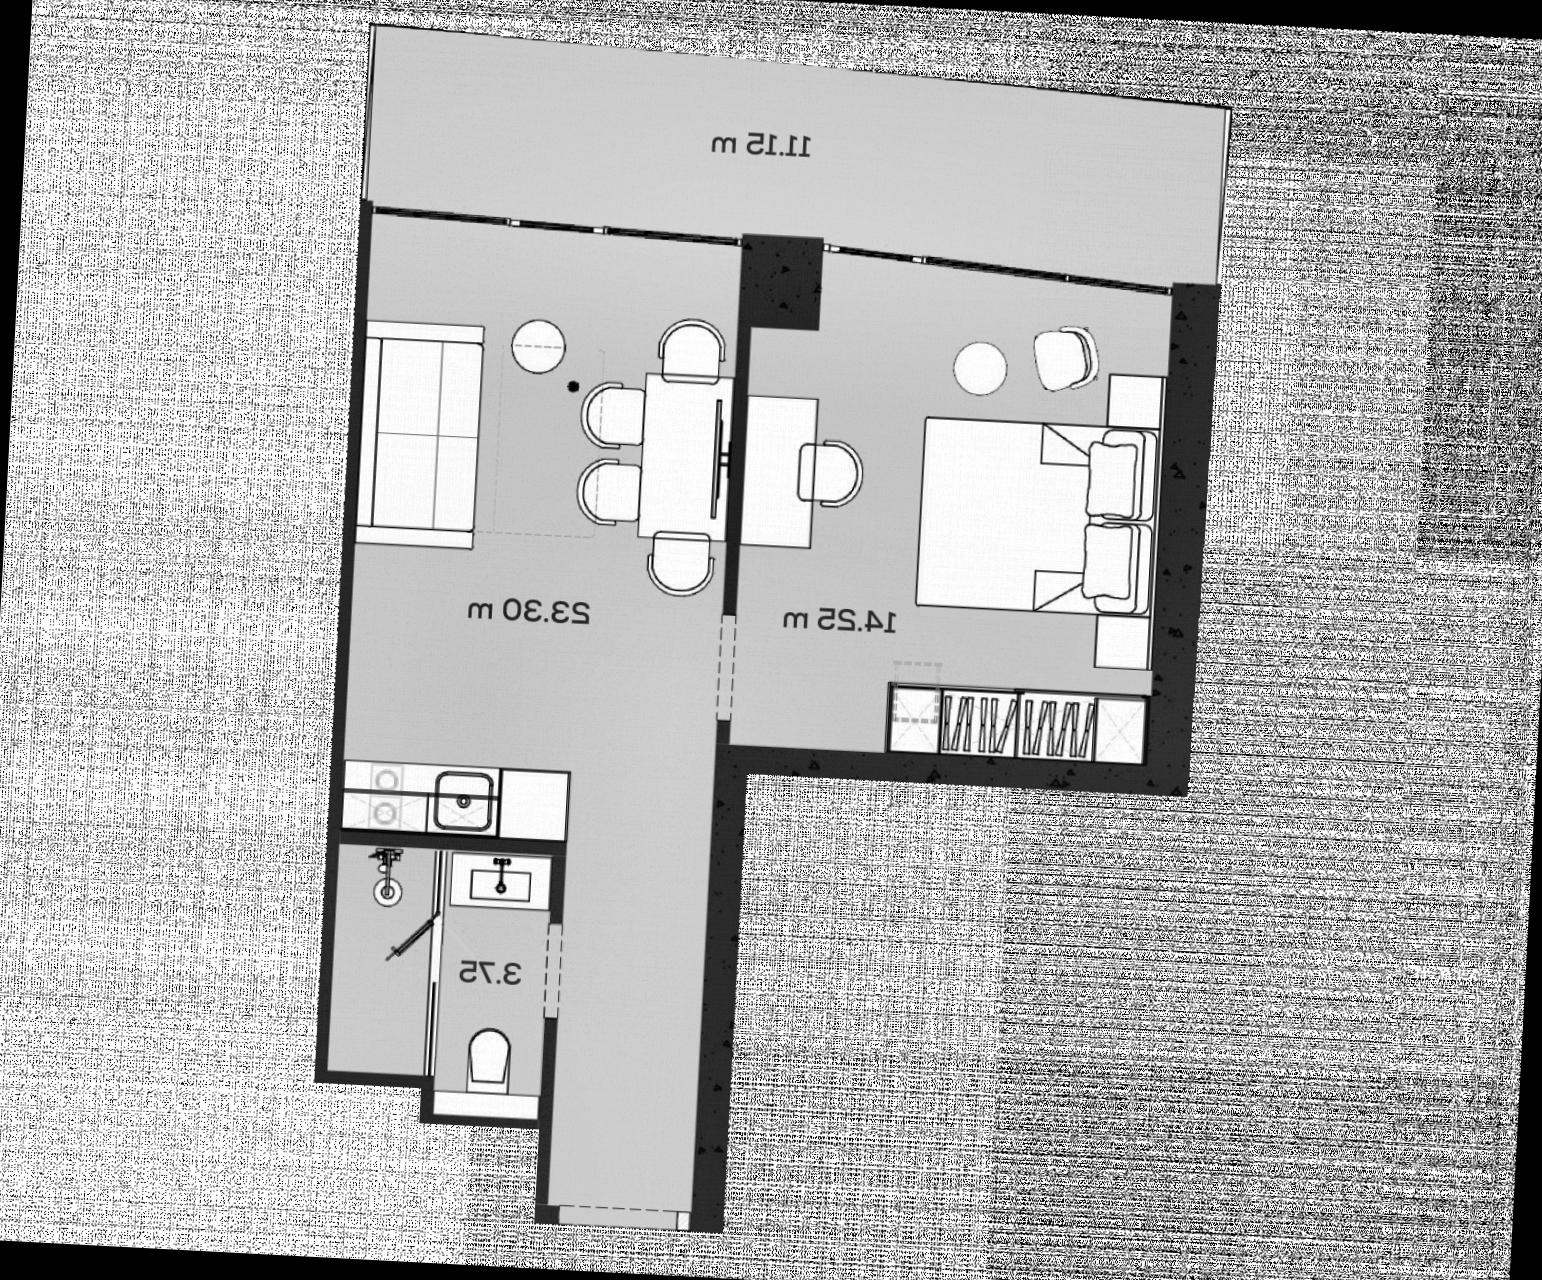door: (555, 1195, 693, 1242), (382, 908, 456, 988), (533, 919, 572, 1030), (710, 607, 740, 725)
